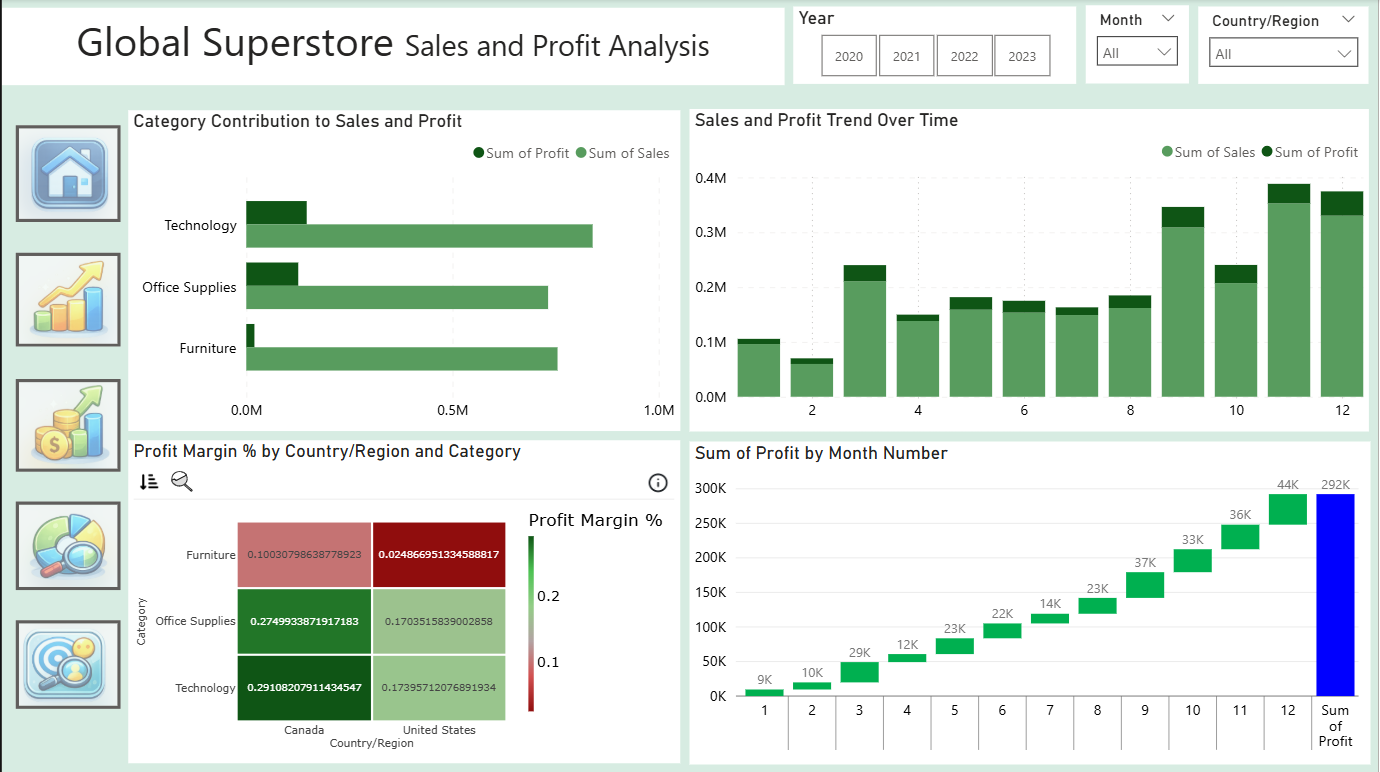

This screenshot's page, from the dashboard's own definition file:
{"tool":"powerbi","page":{"name":"Page 2","canvas":[1280,720],"ordinal":2},"visuals":[{"type":"lineStackedColumnComboChart","title":"Sales and Profit Trend Over Time","fields":{"Category":["DateTable.MonthNumber"],"Y":["Sum(orders.Sales)","Sum(orders.Profit)"]},"box":[639.5,102,631.9,299.6],"z":0},{"type":"SimpleWaterfall","fields":{"category":["DateTable.Month Number"],"measure":["Sum(orders.Profit)"]},"box":[639.3,411.3,632.6,300],"z":1000},{"type":"clusteredBarChart","title":"Category Contribution to Sales and Profit","fields":{"Category":["orders.Category"],"Y":["Sum(orders.Profit)","Sum(orders.Sales)"]},"box":[117.1,103.2,513.6,298.3],"z":2000},{"type":"heatmap453A07F28F01EE72753E360387DD1430","fields":{"col_1":["orders.Category"],"col_2":["Key_Measure.Profit Margin %"],"col_0":["orders.Country/Region"]},"box":[117.2,411,513,300],"z":3000},{"type":"textbox","box":[0,7.8,727.6,71.8],"z":4000},{"type":"slicer","fields":{"Values":["orders.Country/Region"]},"box":[1112.8,7.6,158.6,71.8],"z":5000},{"type":"slicer","fields":{"Values":["DateTable.Month"]},"box":[1008.3,6.3,95.7,73],"z":6000},{"type":"slicer","title":"Year","fields":{"Values":["DateTable.Year"]},"box":[736.4,7.6,263.1,71.8],"z":7000},{"type":"group","id":"g1","title":"Group 1","box":[12.5,117.5,97.5,542.5],"z":8000},{"type":"actionButton","box":[12.5,117.5,97.5,90],"z":9000,"group":"g1"},{"type":"actionButton","box":[12.5,236.3,97.5,87.5],"z":10000,"group":"g1"},{"type":"actionButton","box":[12.5,353.7,97.5,86.2],"z":11000,"group":"g1"},{"type":"actionButton","box":[12.5,467.5,97.5,82.5],"z":12000,"group":"g1"},{"type":"actionButton","box":[12.5,577.5,97.5,82.5],"z":13000,"group":"g1"}]}

Visuals, with their boxes in screenshot pixels (x1, y1, x2, y2), scaled from the page's 1280x720 canvas onto the 1380x772 screenshot:
"Sales and Profit Trend Over Time" lineStackedColumnComboChart: 689, 109, 1371, 431
SimpleWaterfall - DateTable.Month Number x Sum(orders.Profit): 689, 441, 1371, 763
"Category Contribution to Sales and Profit" clusteredBarChart: 126, 111, 680, 430
heatmap453A07F28F01EE72753E360387DD1430 - orders.Category x Key_Measure.Profit Margin %: 126, 441, 679, 762
textbox: 0, 8, 784, 85
slicer - orders.Country/Region: 1200, 8, 1371, 85
slicer - DateTable.Month: 1087, 7, 1190, 85
"Year" slicer: 794, 8, 1078, 85
"Group 1" group: 13, 126, 119, 708
actionButton: 13, 126, 119, 222
actionButton: 13, 253, 119, 347
actionButton: 13, 379, 119, 472
actionButton: 13, 501, 119, 590
actionButton: 13, 619, 119, 708
